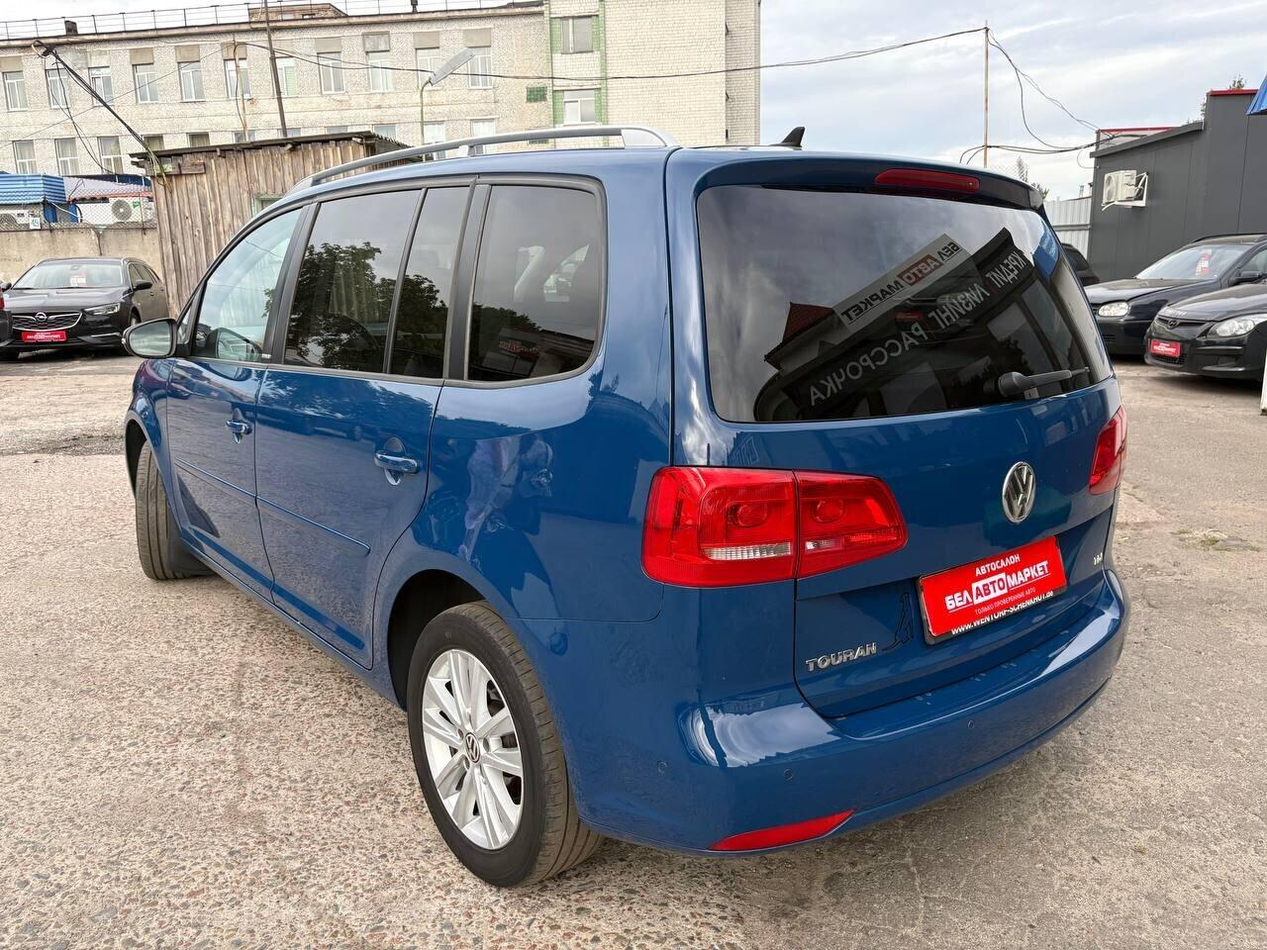Touran_2010-2015: (122, 145, 1135, 888)
